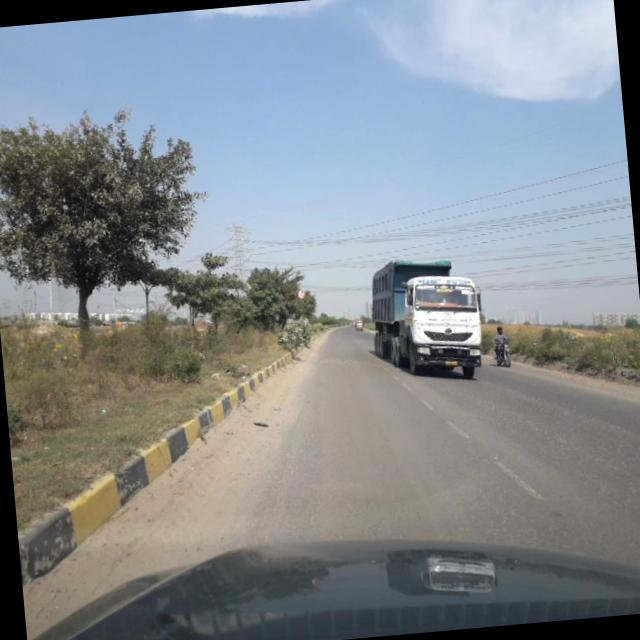crack: (486, 393, 640, 529)
